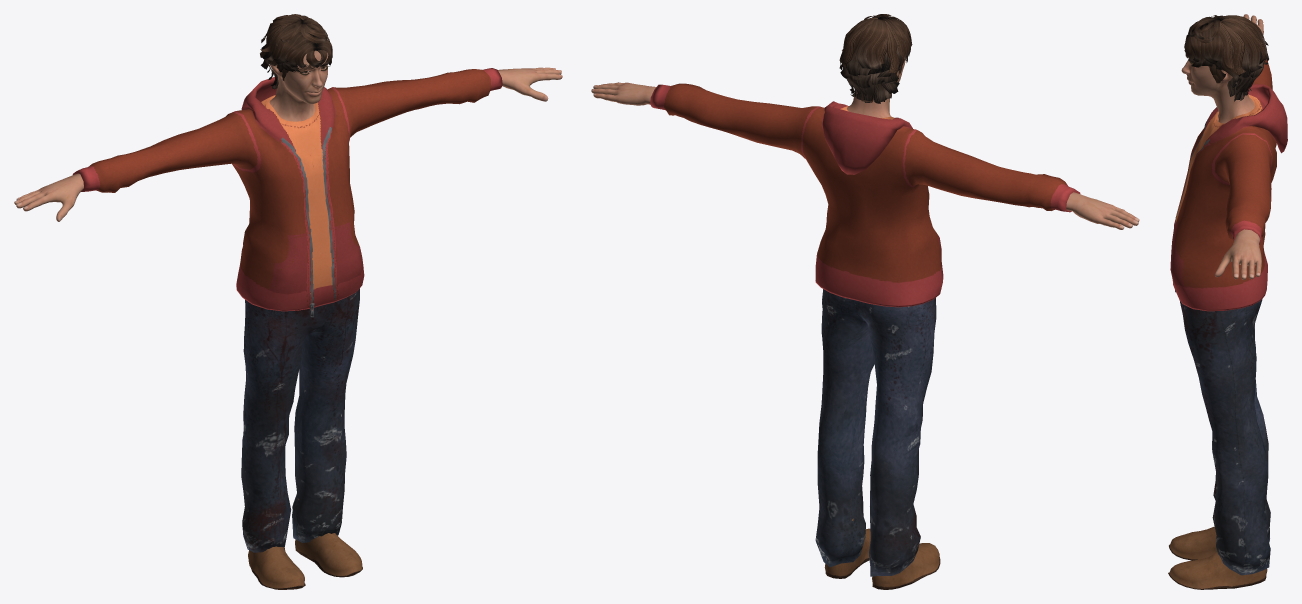
File: idle.obj
3 views of the same model, side by side, from view 1: azimuth 30°, elevation 25°; view 2: azimuth 150°, elevation 25°; view 3: azimuth 270°, elevation 25° (orthographic).
Visible parts, largest first — view 1: Tops, Bottoms, BodyParts, Shoes, Hair; view 2: Tops, Bottoms, Hair, BodyParts, Shoes; view 3: Tops, Bottoms, Hair, BodyParts, Shoes.
Part boxes in pixels (bbox=[...]): Tops: bbox=[72, 68, 502, 317]; Bottoms: bbox=[241, 288, 359, 552]; BodyParts: bbox=[14, 50, 562, 221]; Shoes: bbox=[248, 498, 362, 589]; Hair: bbox=[260, 14, 332, 89]; Tops: bbox=[650, 83, 1080, 307]; Bottoms: bbox=[815, 289, 936, 576]; Hair: bbox=[839, 14, 912, 103]; BodyParts: bbox=[591, 60, 1139, 229]; Shoes: bbox=[824, 518, 940, 589]; Tops: bbox=[1170, 59, 1287, 311]; Bottoms: bbox=[1179, 299, 1270, 575]; Hair: bbox=[1184, 15, 1268, 101]; BodyParts: bbox=[1181, 14, 1263, 279]; Shoes: bbox=[1168, 526, 1267, 589].
Bounding box in the file's own units: 187 × 181 × 35.54.
5 materials, 5 textured.
